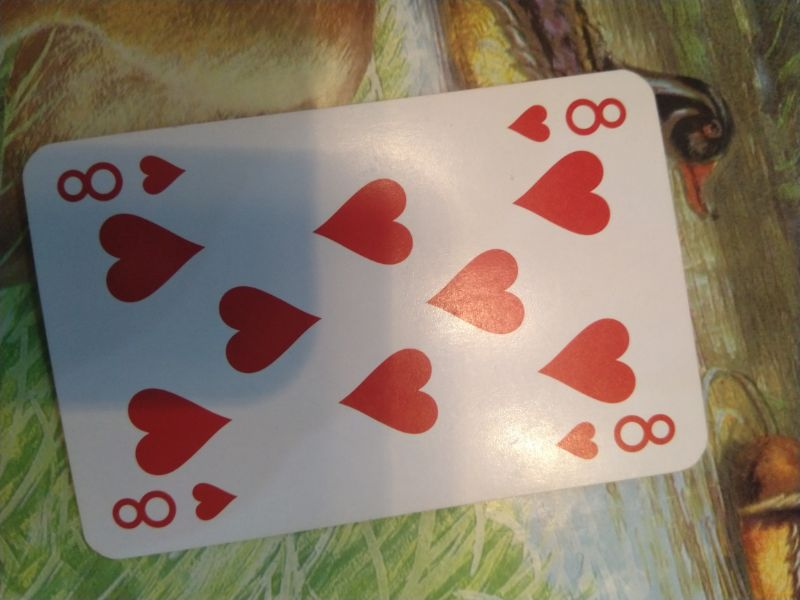8h: (52, 145, 196, 206), (504, 88, 637, 148), (102, 478, 242, 533), (551, 408, 686, 464)
